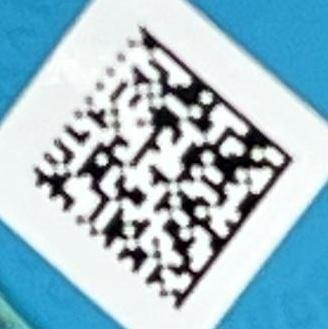datamatrix: (32, 25, 294, 312)
